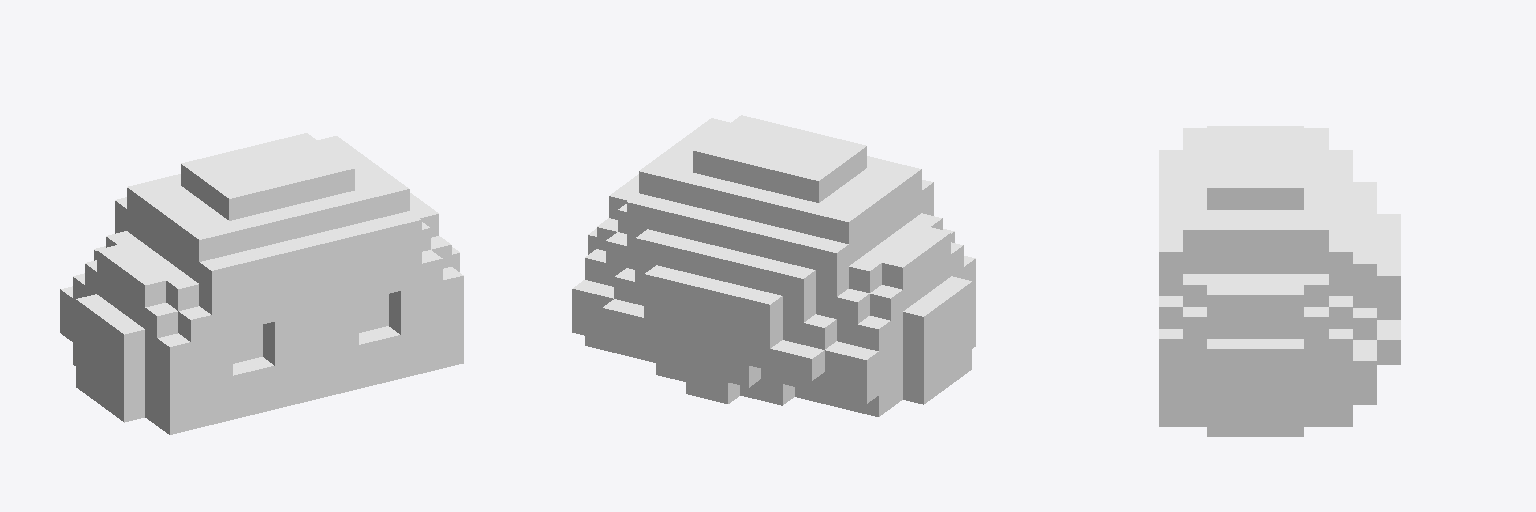
The model's file is SpaceInvader2.2.obj.
3 renders of one model, left to right at view 1: azimuth 30°, elevation 25°; view 2: azimuth 150°, elevation 25°; view 3: azimuth 270°, elevation 25°, orthographic.
Visible parts, largest first — view 1: object 1; view 2: object 1; view 3: object 1.
Boxes of the visible parts, x1=… form: object 1: x1=60, y1=133, x2=463, y2=434; object 1: x1=572, y1=115, x2=975, y2=416; object 1: x1=1159, y1=126, x2=1400, y2=436.
Size of the model in its own units: 1.6 by 0.9 by 1.